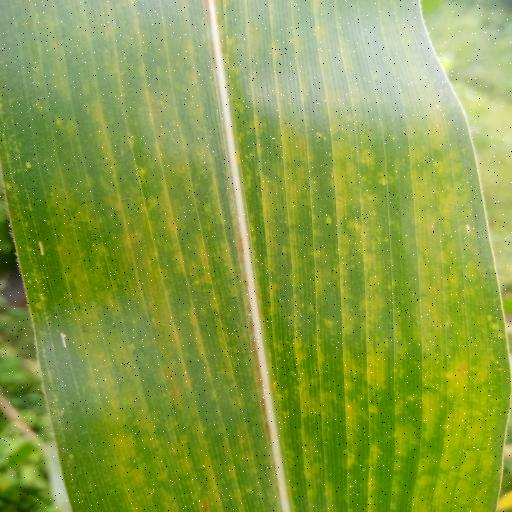Corn_Chlorotic_Leaf_Spot: (5, 0, 512, 512)
